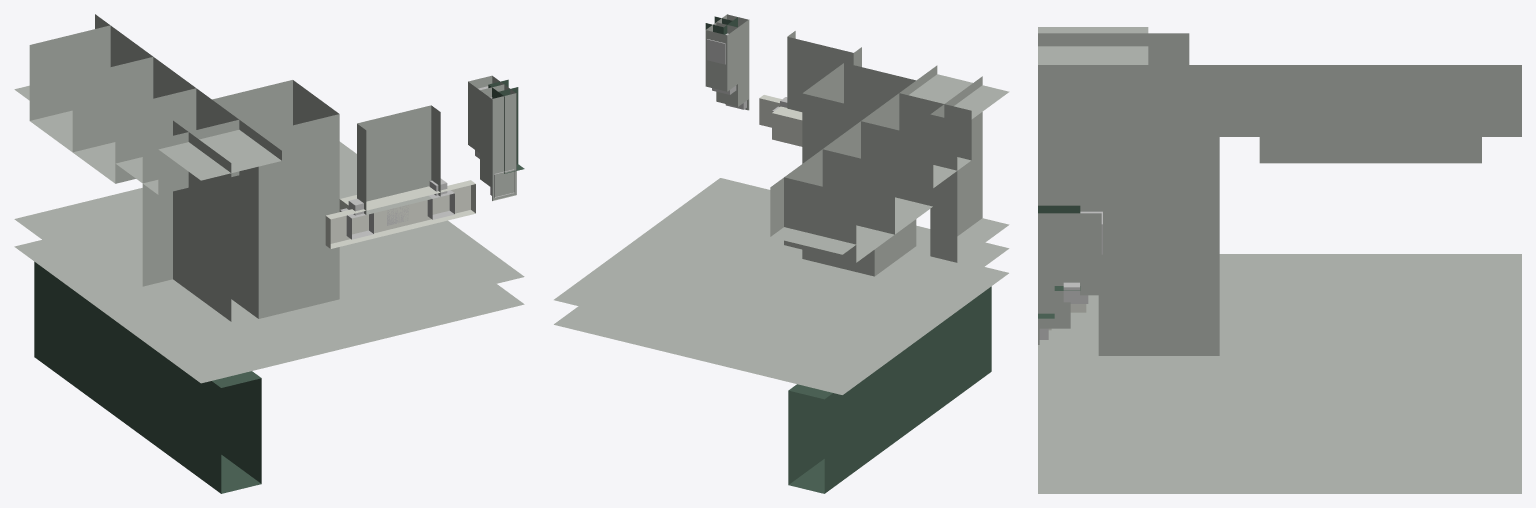
The model's file is cell_6.obj.
3 renders of one model, left to right at view 1: azimuth 30°, elevation 25°; view 2: azimuth 150°, elevation 25°; view 3: azimuth 270°, elevation 25°, orthographic. The views are drawn at different scales.
Bounding box in the file's own units: 1 × 0.9688 × 1.
